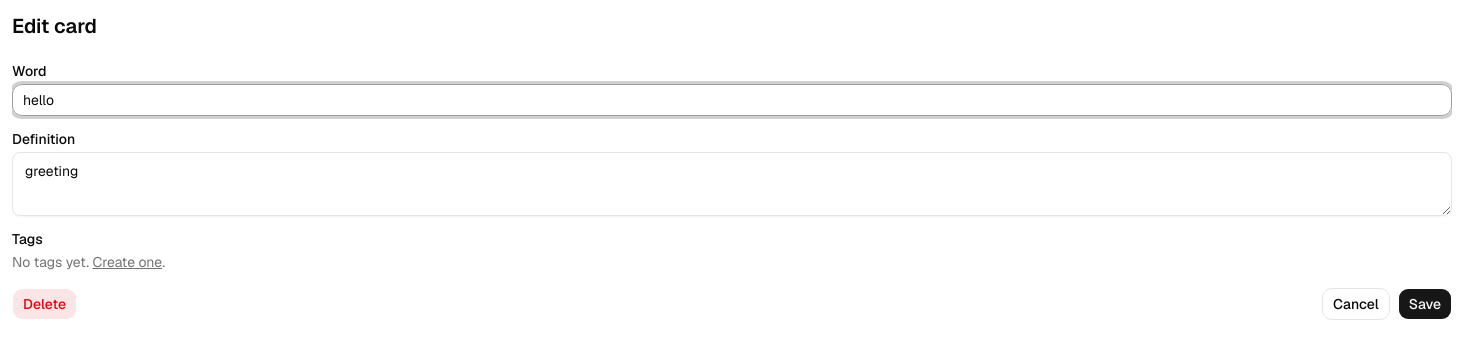
Test: EditCardPage › Save disabled when either field is empty
Clear the field labelled "Word" at (732, 100), box [12,84,1452,116]
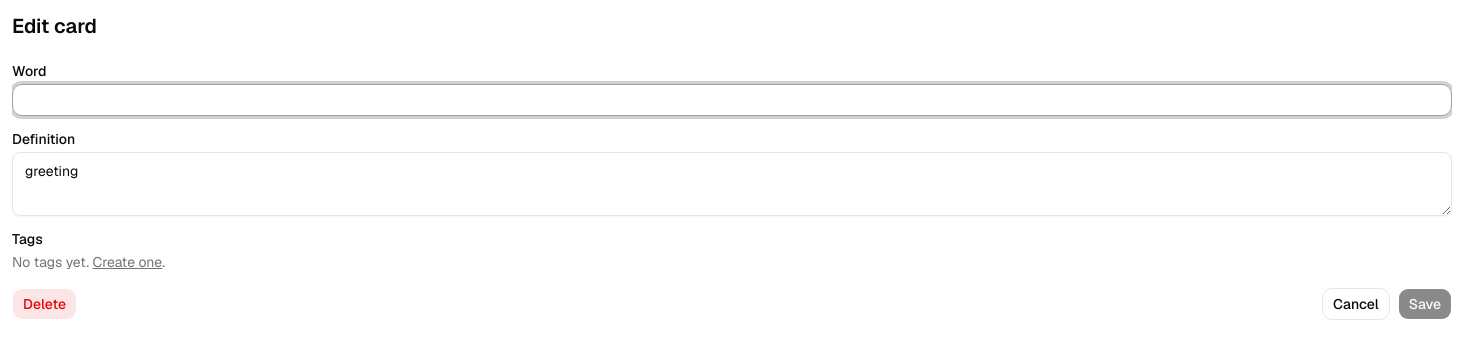
Expected: the button "Save" is disabled, [1398,288,1452,320]
